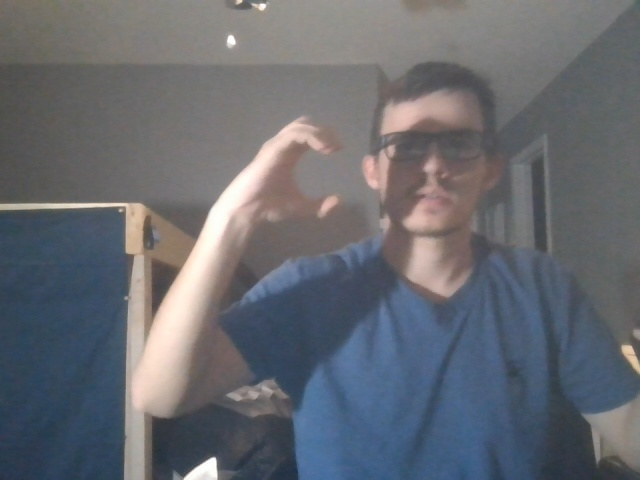C: (222, 110, 354, 240)
